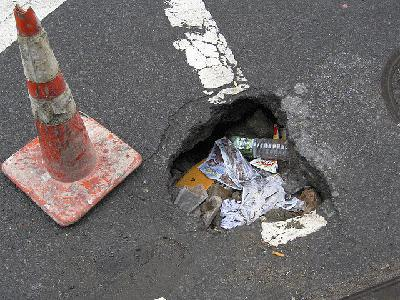pothole: (164, 91, 333, 234)
